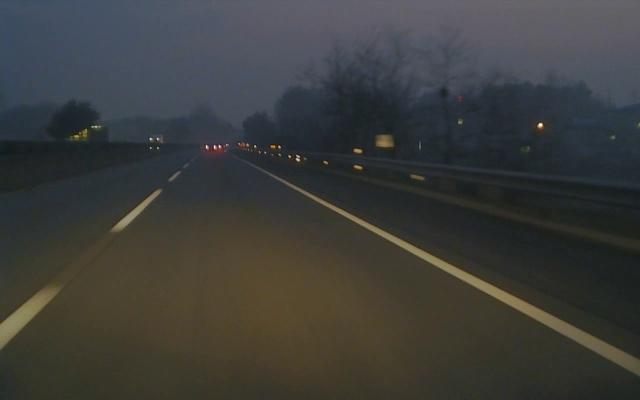lane: (254, 165, 640, 377), (0, 169, 186, 352)
